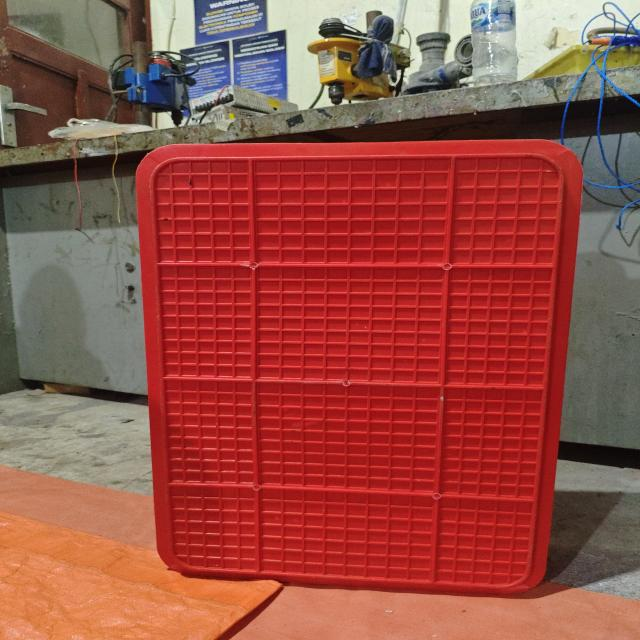red plastic box: (136, 139, 583, 596)
